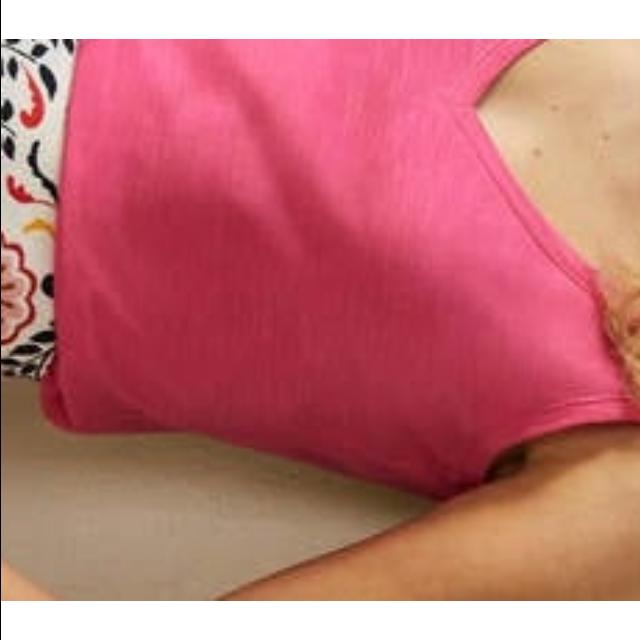cotton: (84, 39, 640, 507)
